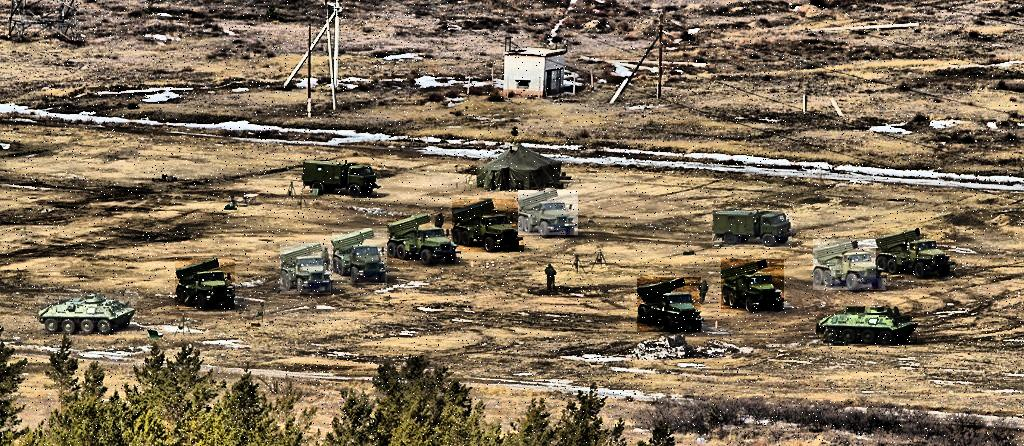military-vehicle: (876, 229, 956, 279), (38, 294, 137, 334), (816, 306, 917, 344), (452, 199, 524, 252), (388, 215, 461, 266), (813, 240, 886, 291), (637, 277, 701, 332), (721, 259, 784, 311), (332, 229, 387, 285), (175, 259, 235, 310), (713, 211, 793, 249), (304, 161, 378, 198), (519, 191, 579, 236), (281, 244, 332, 295)
